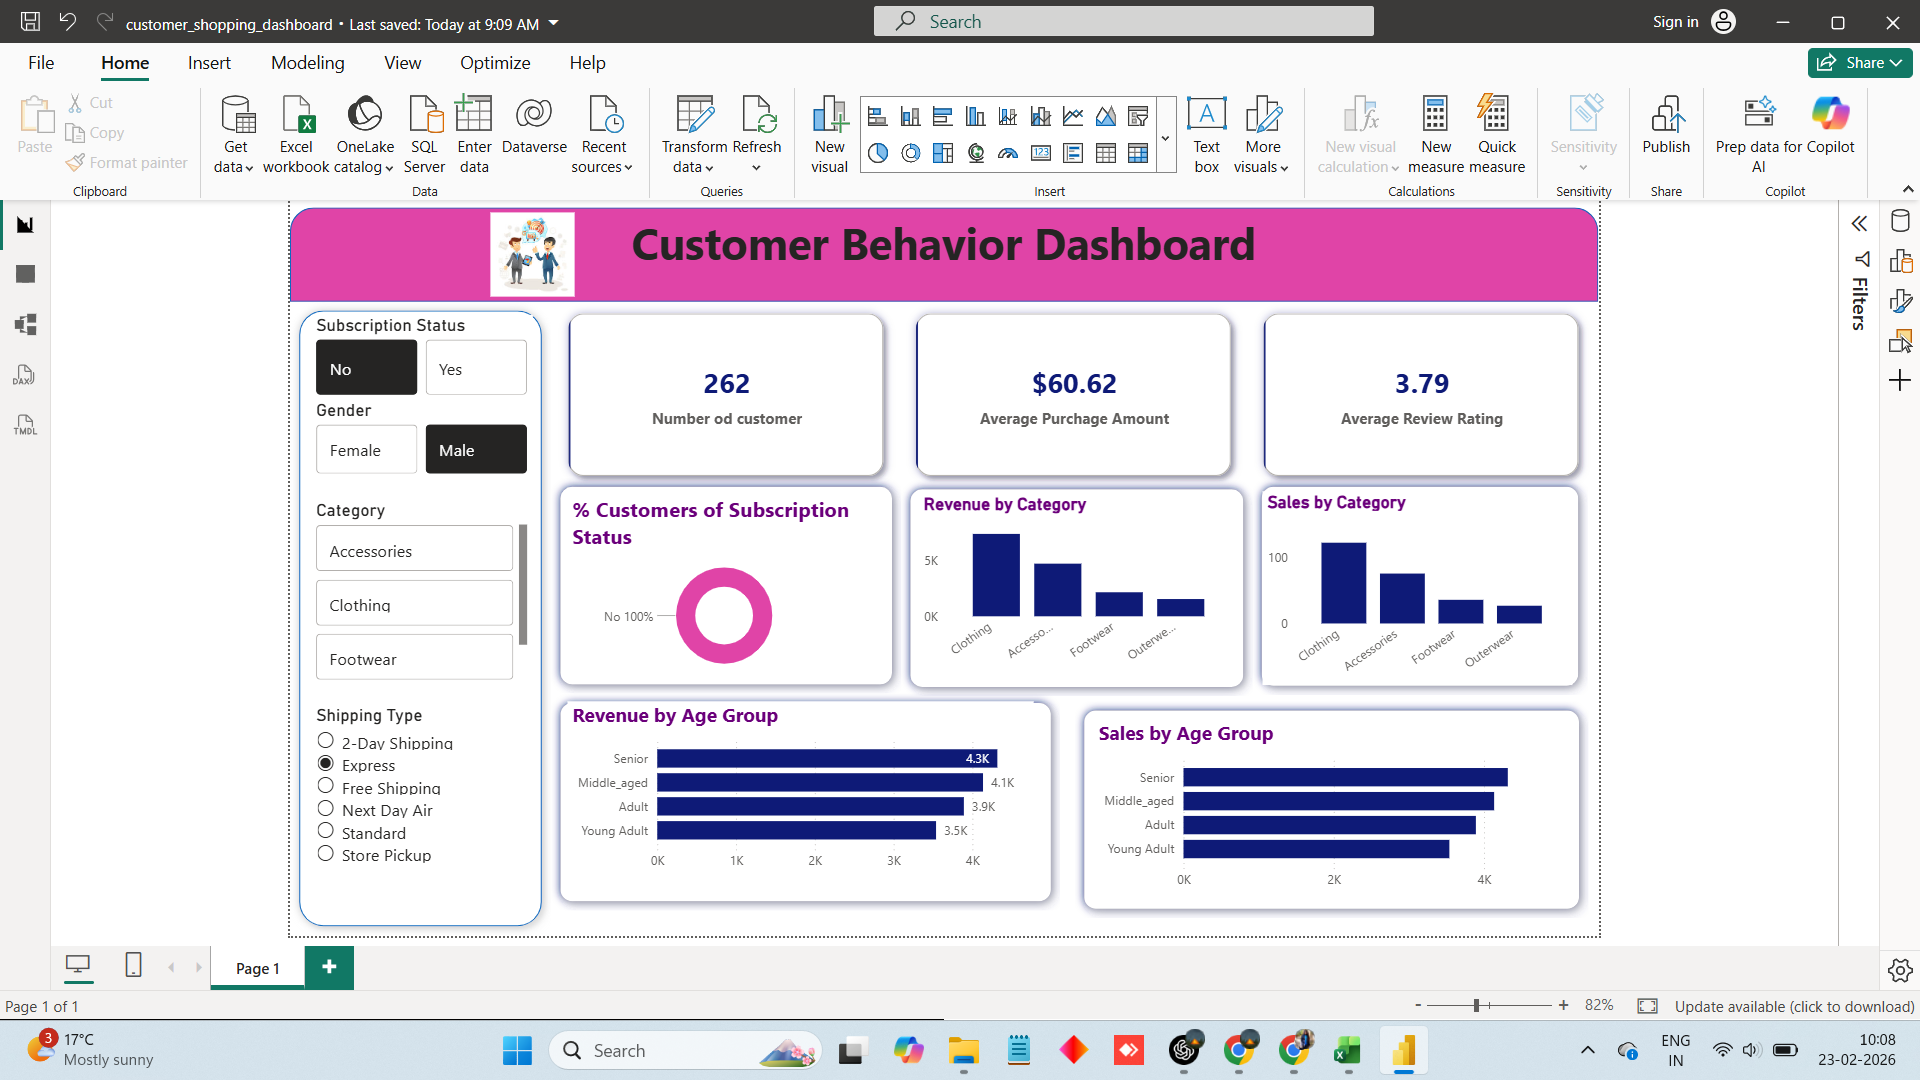

The dashboard page shown, as its layout file describes it:
{"tool":"powerbi","page":{"name":"Page 1","canvas":[1280,720],"ordinal":0},"visuals":[{"type":"cardVisual","fields":{"Data":["customer_shopping customer.Number od customer","customer_shopping customer.Average Purchage Amount","customer_shopping customer.Average Review Rating"]},"box":[255.6,94.2,1024.7,193.2],"z":0},{"type":"shape","box":[255.6,271.5,342.4,211.6],"z":1000},{"type":"shape","box":[0,7.2,1279.7,92.3],"z":2000},{"type":"textbox","box":[10.1,7.2,1259.5,69.3],"z":3000},{"type":"donutChart","title":"% Customers of Subscription Status","fields":{"Category":["customer_shopping customer.subscription_status"],"Y":["CountNonNull(customer_shopping customer.customer_id)"]},"box":[271.5,288.6,306.9,183.4],"z":4000},{"type":"shape","box":[598,273.9,343.6,211.6],"z":5000},{"type":"shape","box":[941.6,271.5,327.7,212.8],"z":6000},{"type":"clusteredColumnChart","title":"Revenue by Category","fields":{"Category":["customer_shopping customer.category"],"Y":["Sum(customer_shopping customer.purchase_amount)"]},"box":[615.1,287.4,310.6,176.1],"z":7000},{"type":"clusteredColumnChart","title":"Sales by Category","fields":{"Category":["customer_shopping customer.category"],"Y":["CountNonNull(customer_shopping customer.customer_id)"]},"box":[951.4,284.9,303.3,189.5],"z":8000},{"type":"shape","box":[0,99.6,255.4,620.4],"z":9000},{"type":"advancedSlicerVisual","fields":{"Values":["customer_shopping customer.subscription_status"]},"box":[20.2,112.5,216.4,83.7],"z":10000},{"type":"advancedSlicerVisual","fields":{"Values":["customer_shopping customer.gender"]},"box":[20.2,196.2,216.4,77.9],"z":11000},{"type":"advancedSlicerVisual","fields":{"Values":["customer_shopping customer.category"]},"box":[20.2,292.9,216.4,180.3],"z":12000},{"type":"shape","box":[255.4,483.3,497.8,212.1],"z":12500},{"type":"clusteredBarChart","title":"Revenue by Age Group","fields":{"Category":["customer_shopping customer.age_group"],"Y":["Sum(customer_shopping customer.purchase_amount)"]},"box":[271.2,490.5,455.9,174.6],"z":13000},{"type":"listSlicer","fields":{"Values":["customer_shopping customer.shipping_type"]},"box":[20.2,493.4,216.4,209.2],"z":14000},{"type":"shape","box":[767.5,490.5,502.1,212.1],"z":15001},{"type":"clusteredBarChart","title":"Sales by Age Group","fields":{"Category":["customer_shopping customer.age_group"],"Y":["Sum(customer_shopping customer.purchase_amount)"]},"box":[786.3,509.3,467.5,174.6],"z":15002},{"type":"image","box":[173.1,7.2,127,92.3],"z":15003}]}

Visuals, with their boxes on the page's 1280x720 design canvas (x1, y1, x2, y2). These are canvas units, not pixel positions in the 1920x1080 screenshot, which may show the page scaled, cropped or inside an application window:
cardVisual - customer_shopping customer.Number od customer x customer_shopping customer.Average Purchage Amount: 256, 94, 1280, 287
shape: 256, 272, 598, 483
shape: 0, 7, 1280, 100
textbox: 10, 7, 1270, 76
"% Customers of Subscription Status" donutChart: 272, 289, 578, 472
shape: 598, 274, 942, 486
shape: 942, 272, 1269, 484
"Revenue by Category" clusteredColumnChart: 615, 287, 926, 464
"Sales by Category" clusteredColumnChart: 951, 285, 1255, 474
shape: 0, 100, 255, 720
advancedSlicerVisual - customer_shopping customer.subscription_status: 20, 112, 237, 196
advancedSlicerVisual - customer_shopping customer.gender: 20, 196, 237, 274
advancedSlicerVisual - customer_shopping customer.category: 20, 293, 237, 473
shape: 255, 483, 753, 695
"Revenue by Age Group" clusteredBarChart: 271, 490, 727, 665
listSlicer - customer_shopping customer.shipping_type: 20, 493, 237, 703
shape: 768, 490, 1270, 703
"Sales by Age Group" clusteredBarChart: 786, 509, 1254, 684
image: 173, 7, 300, 100
